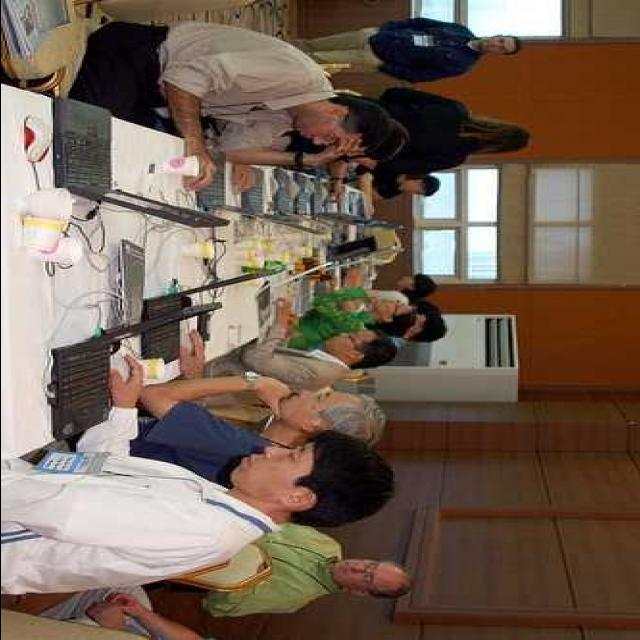laptop: (25, 262, 276, 445), (42, 101, 210, 258), (214, 160, 394, 252), (253, 262, 324, 328)
